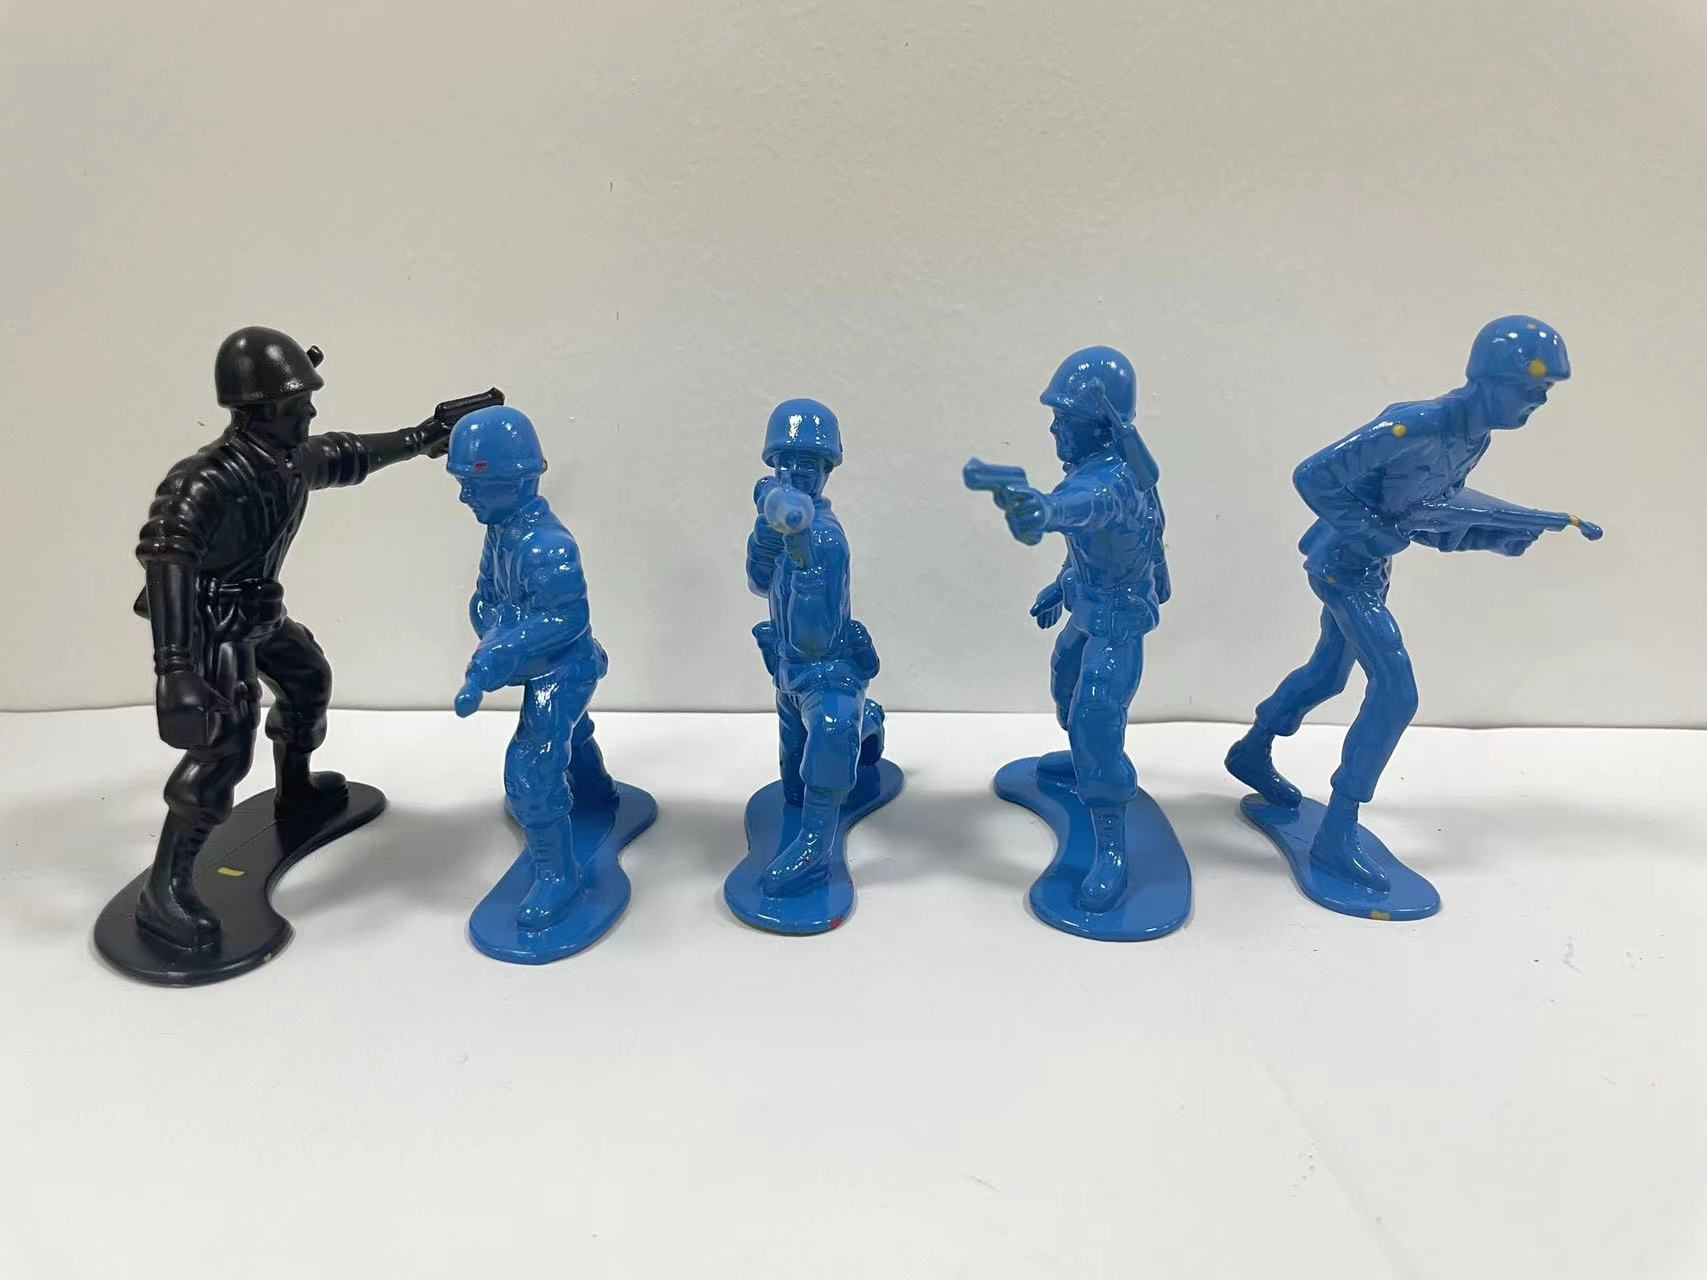black: (99, 243, 448, 1043)
blue: (1254, 274, 1651, 1008), (956, 289, 1220, 1021), (448, 391, 688, 1029), (712, 376, 949, 1023)
